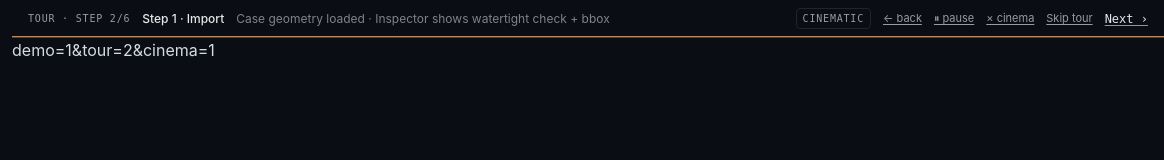
it: CinematicMode V5.C · V83.4 › exit-cinema removes ?cinema but keeps ?demo and ?tour (graceful drop)
Click the button with test id "cinematic-exit" at (1010, 19), box [986, 10, 1034, 27]
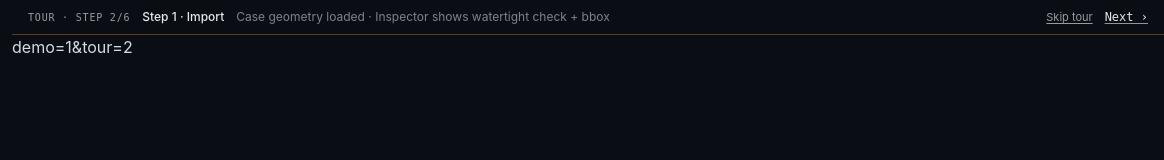
Check: the text with test id "param-probe" shows "demo=1", box [12, 37, 133, 57]
Check: the text with test id "param-probe" no longer shows "cinema"
